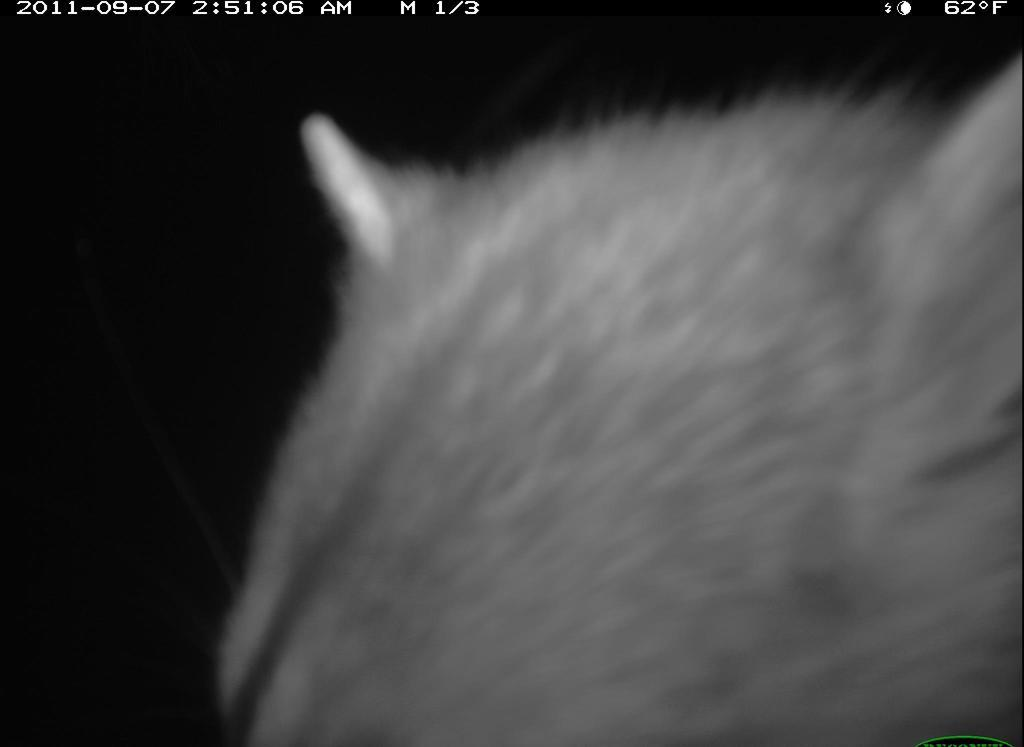raccoon: (196, 50, 1024, 747)
